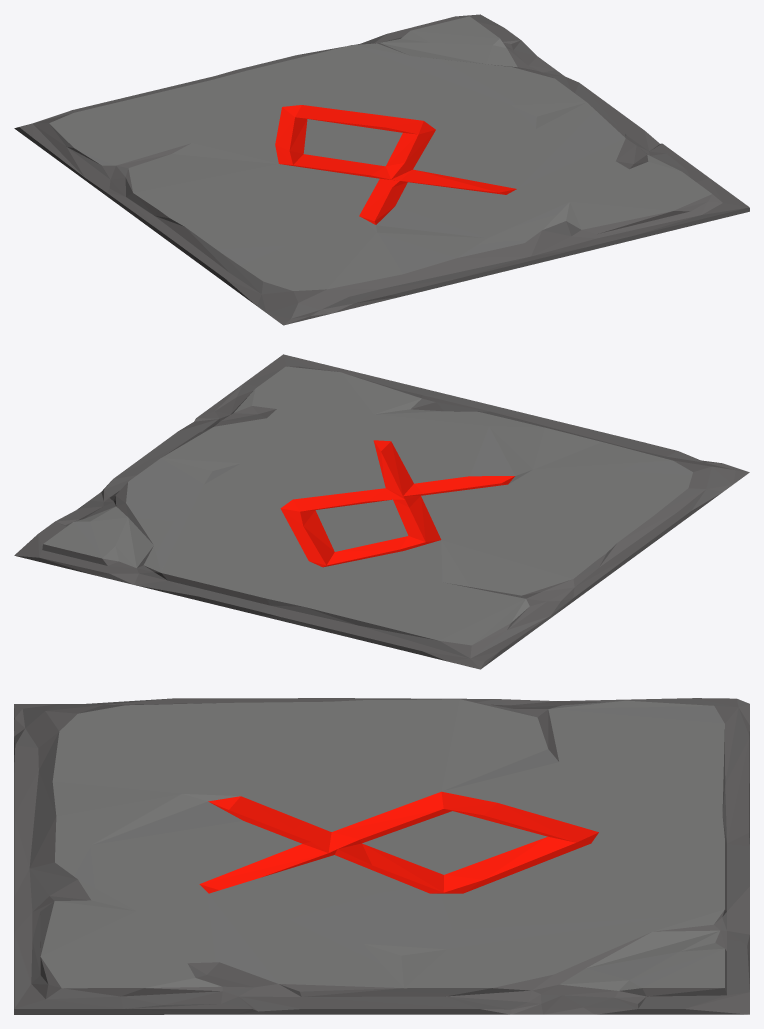
Rendered from SM_Env_Tiles_Rune_03.glb.
3 renders of one model, top to bottom at view 1: azimuth 30°, elevation 25°; view 2: azimuth 150°, elevation 25°; view 3: azimuth 270°, elevation 25°, orthographic. The views are drawn at different scales.
Visible parts, largest first — view 1: SM_Env_Tiles_Rune_03; view 2: SM_Env_Tiles_Rune_03; view 3: SM_Env_Tiles_Rune_03.
Part boxes in pixels (x1=…): SM_Env_Tiles_Rune_03: x1=14, y1=14, x2=749, y2=325; SM_Env_Tiles_Rune_03: x1=14, y1=354, x2=749, y2=669; SM_Env_Tiles_Rune_03: x1=14, y1=698, x2=749, y2=1014.
Bounding box in the file's own units: 0.05 × 0.00101 × 0.05.
Materials: 1 (1 with a texture image).
